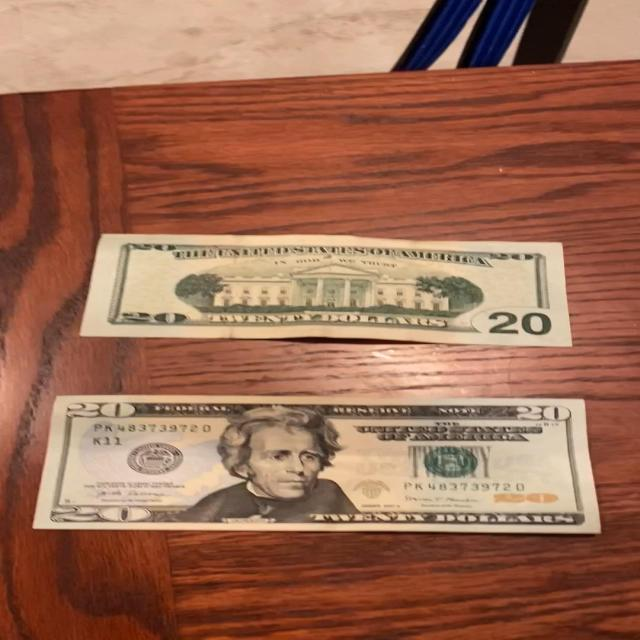20-Back: (78, 228, 581, 354)
20-Front: (28, 391, 606, 541)
